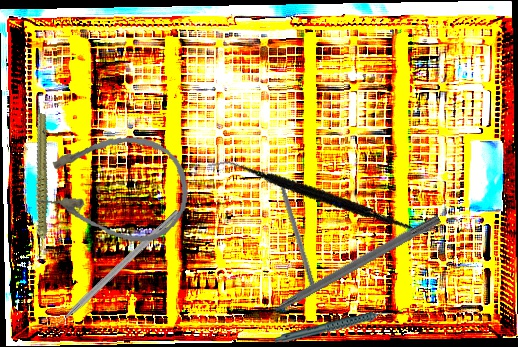Cannula: (34, 125, 194, 248)
Chopper: (40, 202, 182, 335)
Handpiece: (2, 112, 77, 259), (275, 311, 394, 343)
Hook Surgical: (252, 211, 442, 326), (274, 167, 317, 288)
Spatula Surgical: (207, 110, 443, 280)
